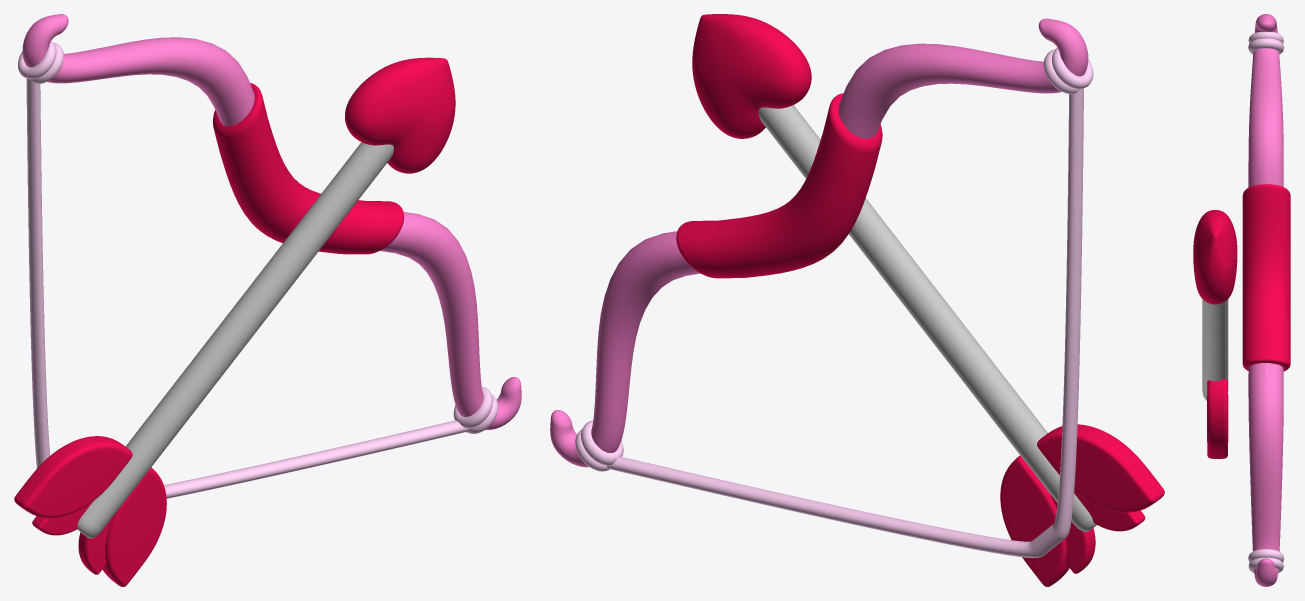
Rendered from Cupic arrow.glb.
The picture shows the model from 3 angles, left to right: view 1: azimuth 30°, elevation 25°; view 2: azimuth 150°, elevation 25°; view 3: azimuth 270°, elevation 25°; orthographic projection. The views are drawn at different scales.
Parts seen in each view (by area): view 1: Circle, Circle.002, Circle.005, Plane, NurbsPath, Vert.011, Plane.001, Circle.003, Circle.004; view 2: Circle, Circle.005, Circle.002, NurbsPath, Vert.011, Plane, Plane.001, Circle.003, Circle.004; view 3: Circle, Circle.005, Vert.011, Circle.002, Plane, Circle.003, Circle.004.
Boxes of the visible parts, x1,y1,x2,y2 form: Circle: [22, 14, 521, 429]; Circle.002: [77, 142, 393, 538]; Circle.005: [213, 83, 403, 254]; Plane: [14, 436, 166, 586]; NurbsPath: [26, 78, 468, 498]; Vert.011: [345, 57, 455, 173]; Plane.001: [32, 501, 112, 574]; Circle.003: [30, 42, 493, 428]; Circle.004: [18, 41, 498, 433]; Circle: [550, 18, 1088, 467]; Circle.005: [676, 93, 882, 278]; Circle.002: [758, 105, 1096, 532]; NurbsPath: [607, 88, 1083, 558]; Vert.011: [692, 14, 811, 138]; Plane: [1000, 424, 1164, 586]; Plane.001: [1050, 490, 1145, 573]; Circle.003: [581, 49, 1079, 465]; Circle.004: [575, 47, 1093, 471]; Circle: [1248, 14, 1283, 586]; Circle.005: [1242, 184, 1290, 371]; Vert.011: [1193, 210, 1237, 304]; Circle.002: [1202, 299, 1228, 400]; Plane: [1207, 379, 1228, 458]; Circle.003: [1248, 38, 1284, 562]; Circle.004: [1248, 32, 1283, 573].
Bounding box in the file's own units: 6.58 × 6.52 × 1.34.
